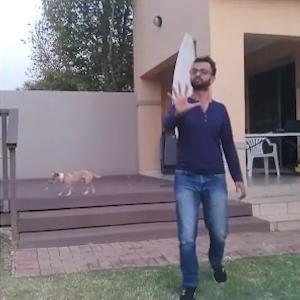follow_hand: (164, 75, 202, 117)
